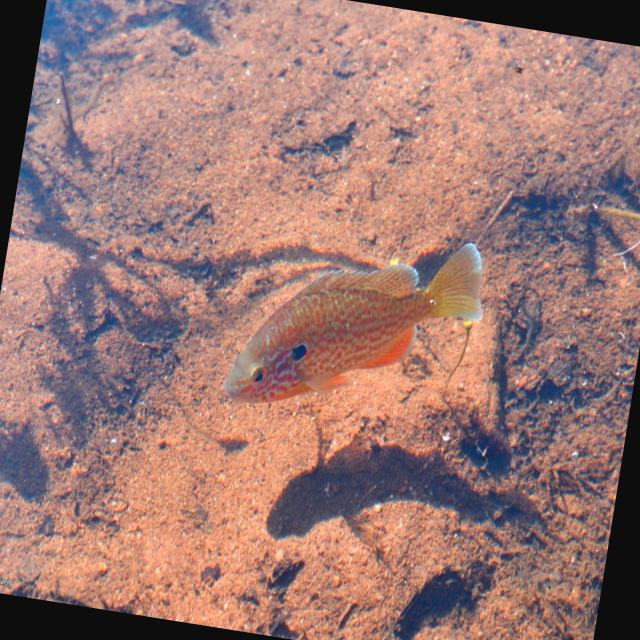Gunes Levregi: (221, 206, 495, 440)
